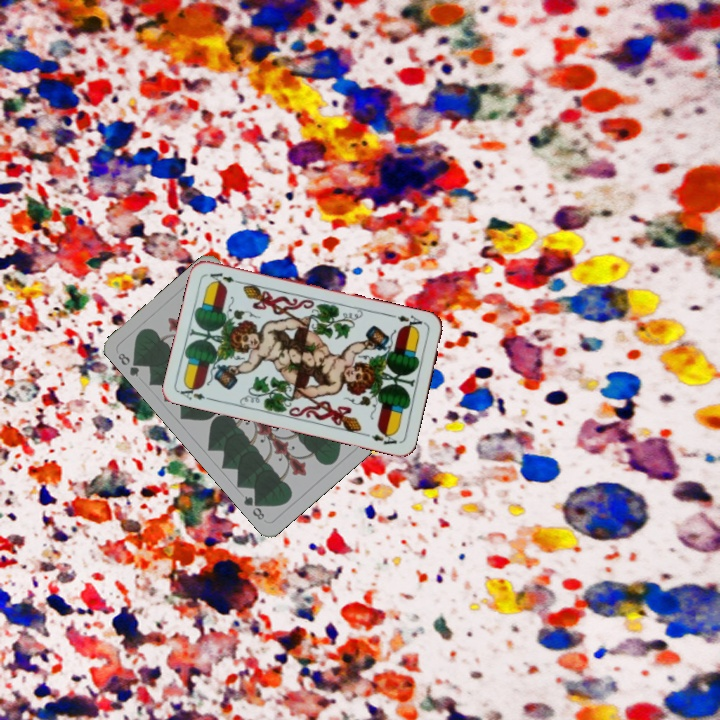EA: (176, 381, 216, 403), (388, 311, 428, 332)
G8: (114, 349, 144, 379)
